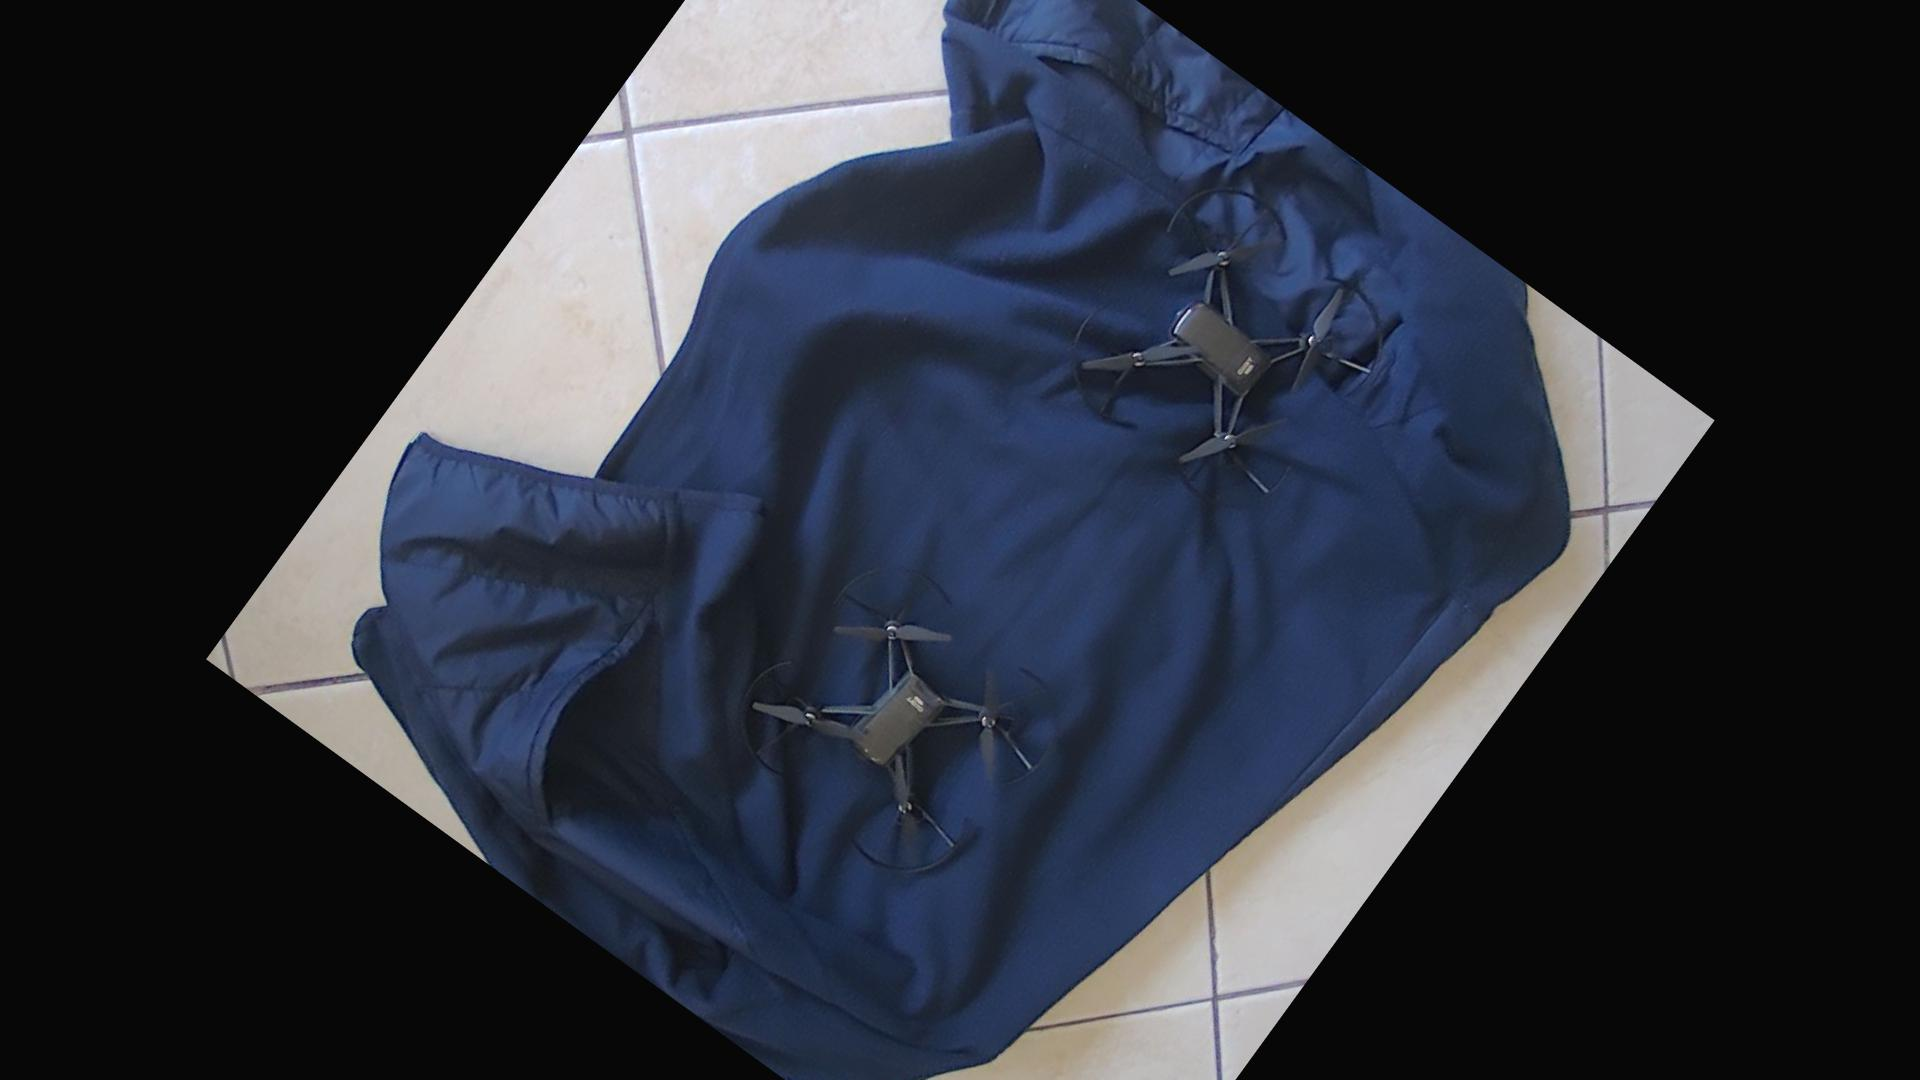dji-tello-edu-drone: (720, 556, 1096, 928), (1051, 186, 1393, 535)
